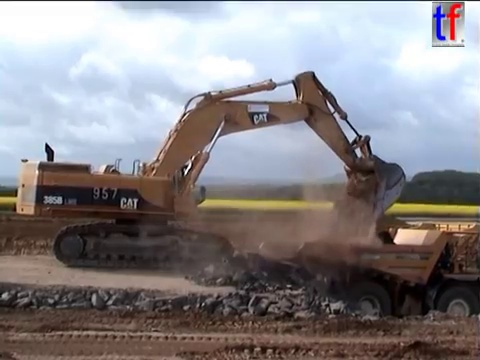excavator: (12, 67, 411, 272)
truck: (255, 218, 480, 340)
